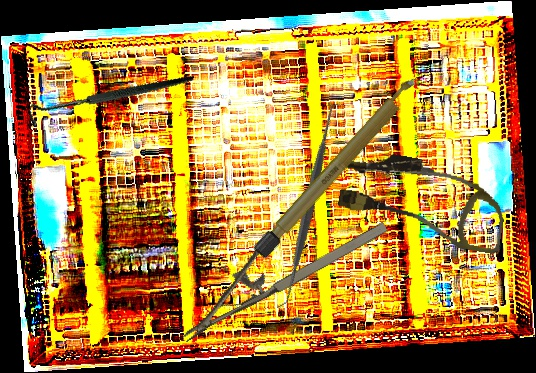Cannula: (334, 146, 512, 255)
Hook Surgical: (25, 35, 194, 166)
Needle Holder: (160, 187, 392, 343)
Scalpel Handle: (251, 71, 425, 261)
Spatula Surgical: (207, 102, 411, 309)
